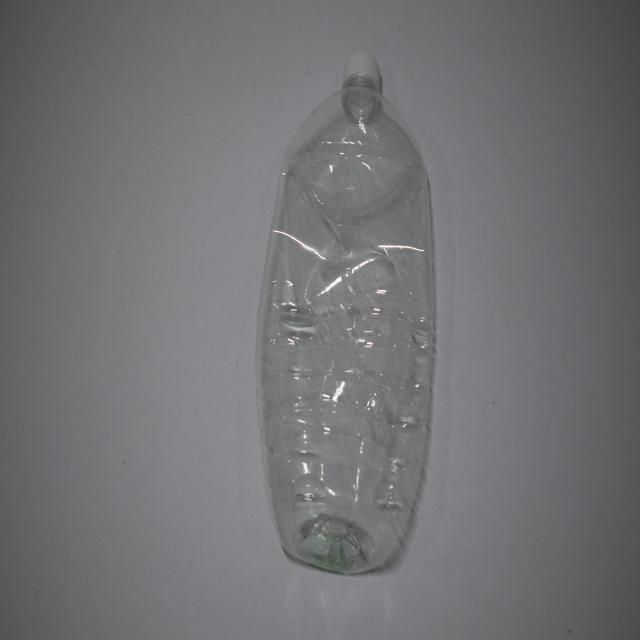empty: (256, 52, 433, 574)
